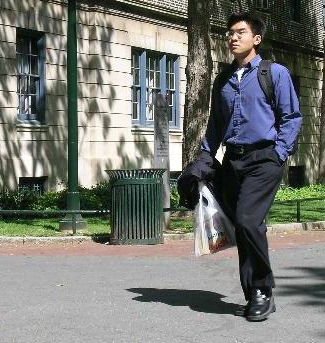pedestrian: (177, 15, 303, 322)
